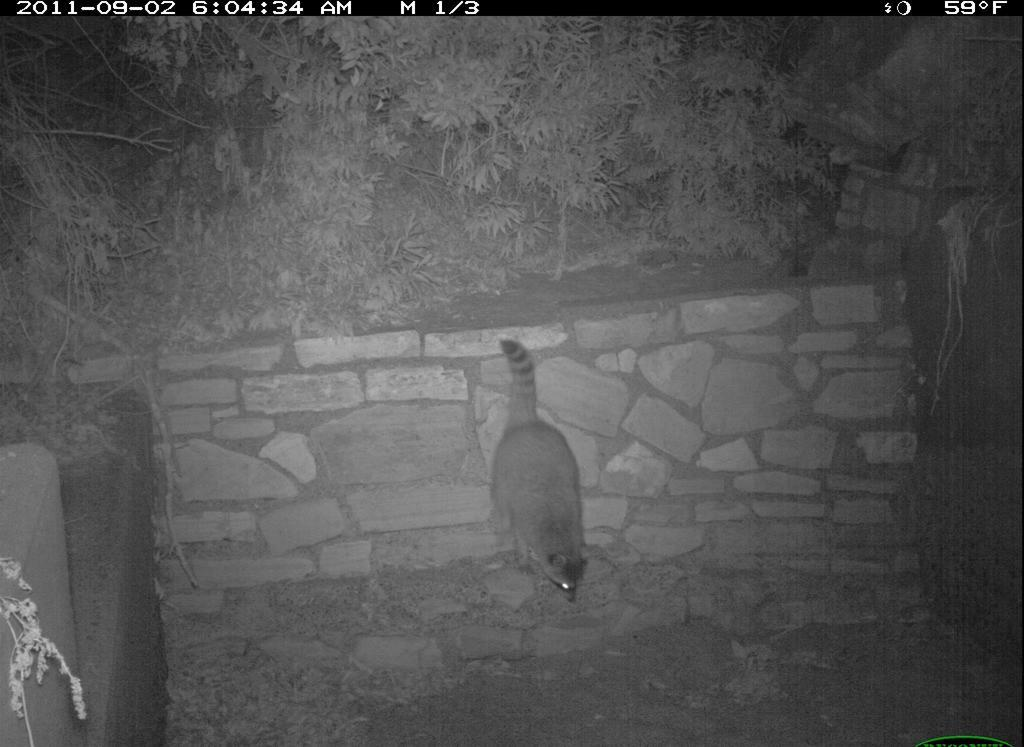raccoon: (474, 326, 603, 620)
